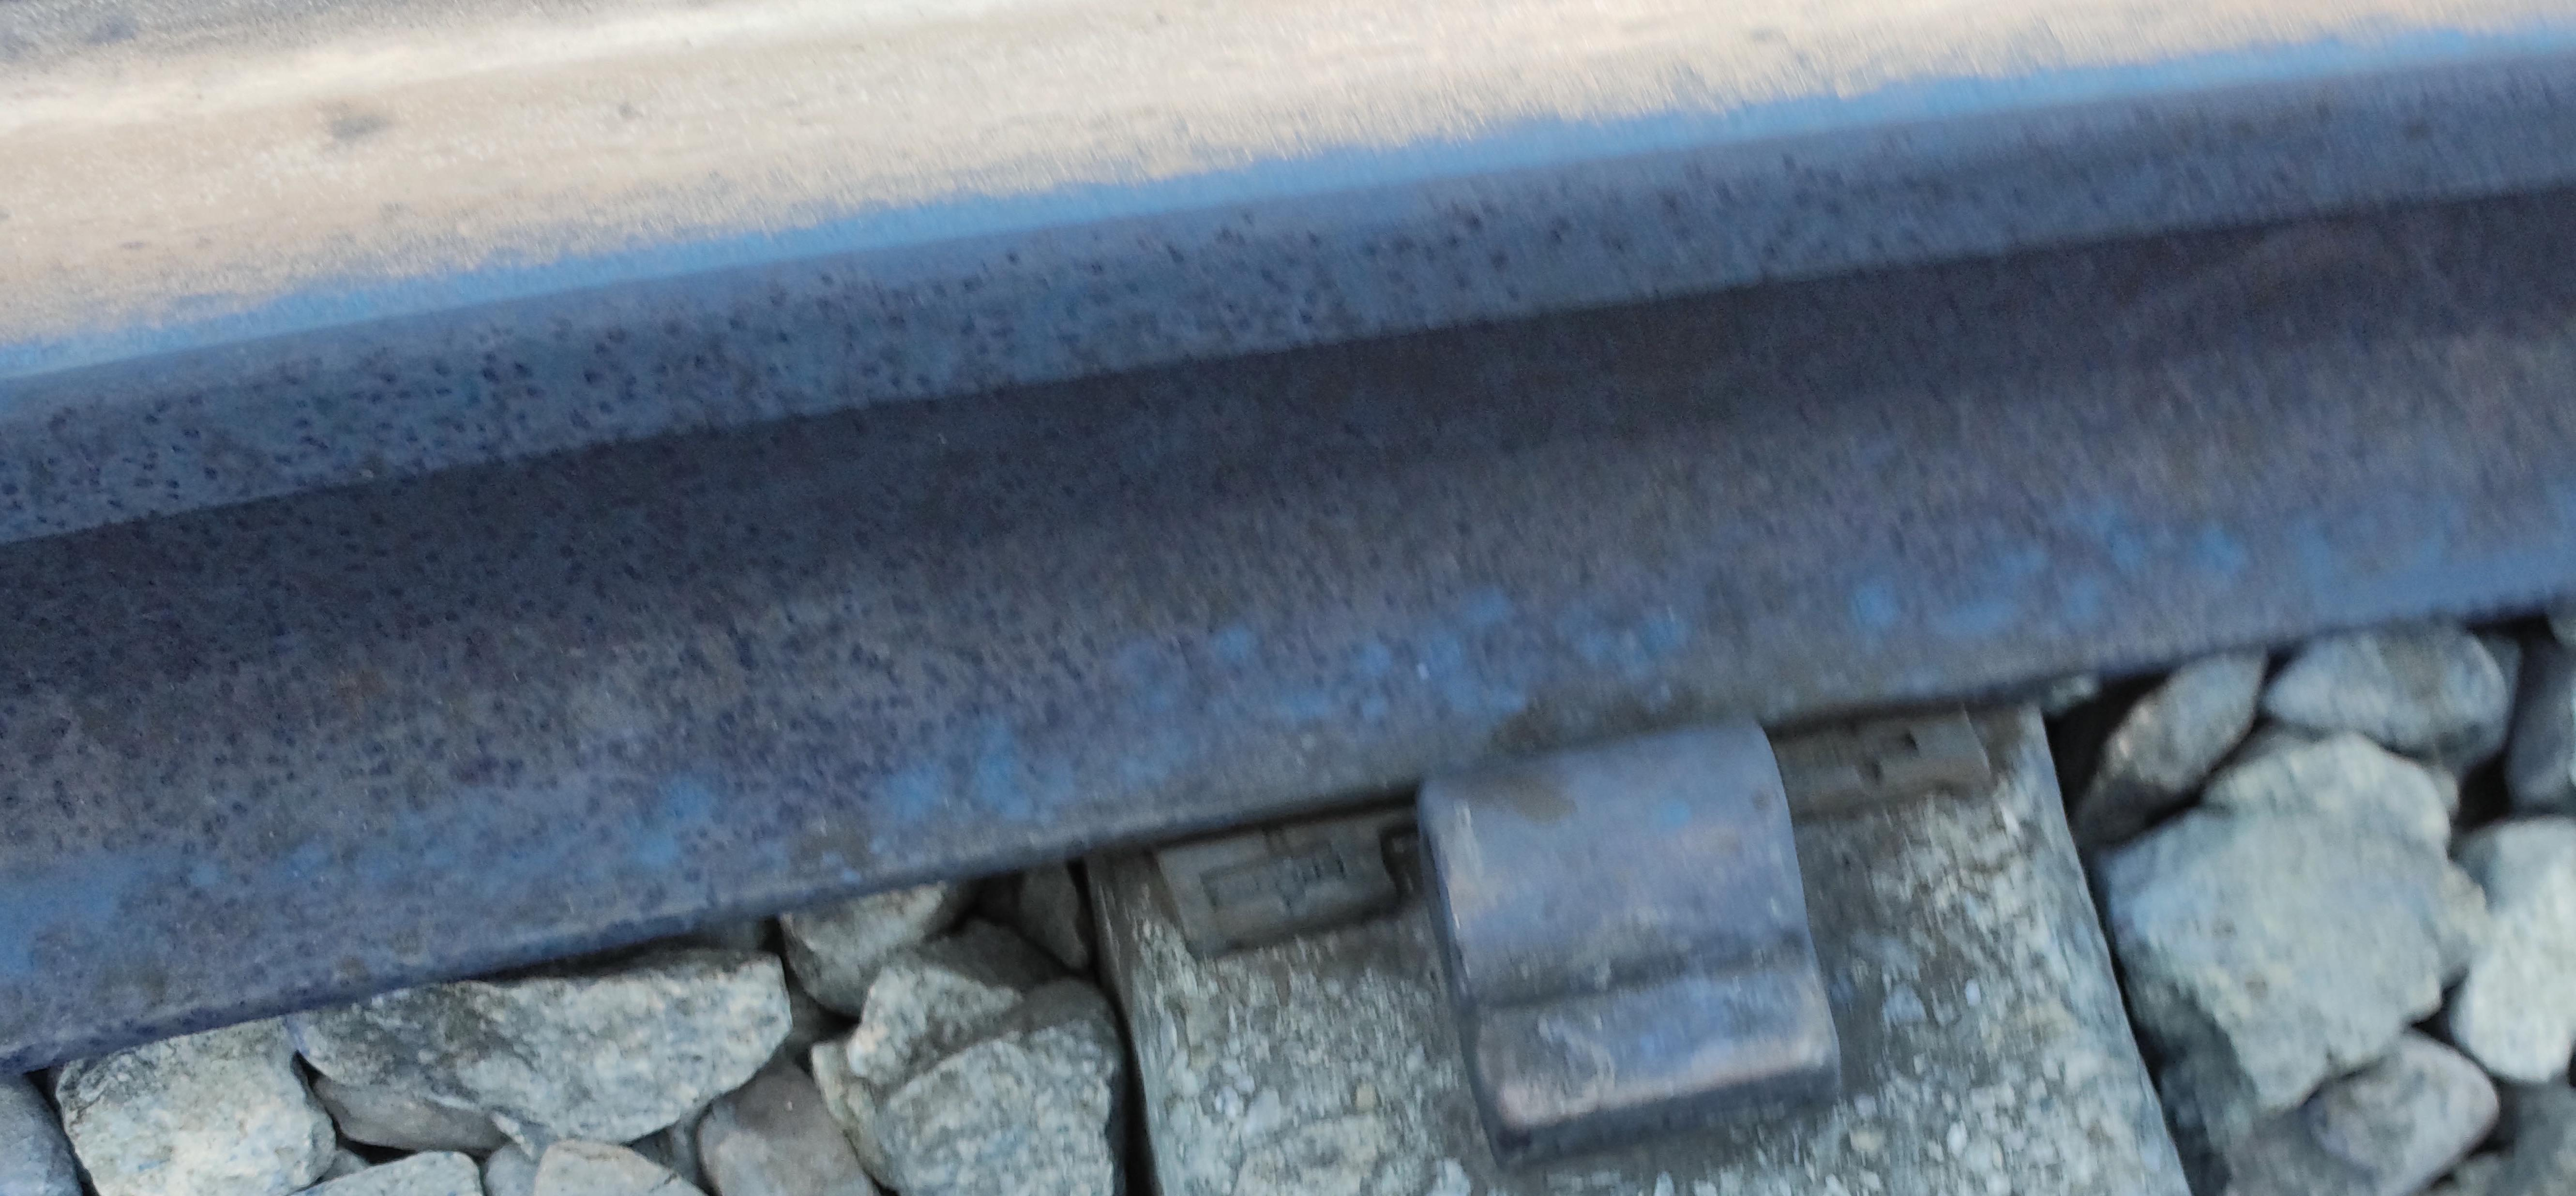error1: (1347, 623, 1911, 1173)
